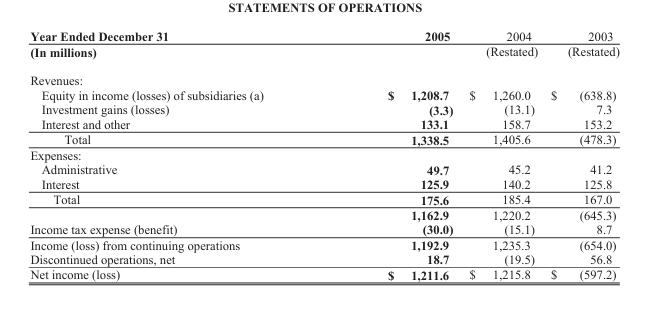table: (29, 28, 618, 281)
table column: (29, 28, 324, 281), (324, 28, 460, 281), (460, 28, 543, 281), (543, 28, 618, 281)
table column header: (29, 28, 618, 65)
table projected row header: (29, 65, 618, 87), (29, 146, 618, 161)
table row: (29, 28, 618, 65), (29, 65, 618, 87), (29, 101, 618, 116), (29, 116, 618, 131), (29, 131, 618, 146), (29, 146, 618, 161), (29, 161, 618, 176), (29, 176, 618, 191), (29, 191, 618, 206), (29, 206, 618, 221), (29, 221, 618, 236), (29, 236, 618, 251), (29, 251, 618, 266), (29, 266, 618, 281), (29, 87, 618, 101)
